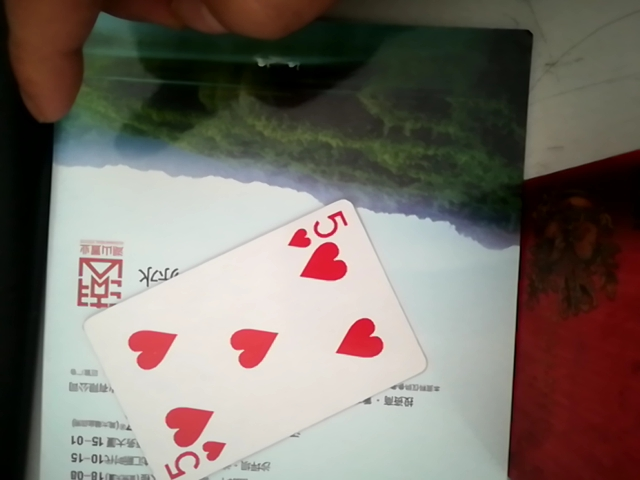hx 5: (82, 179, 429, 478)
